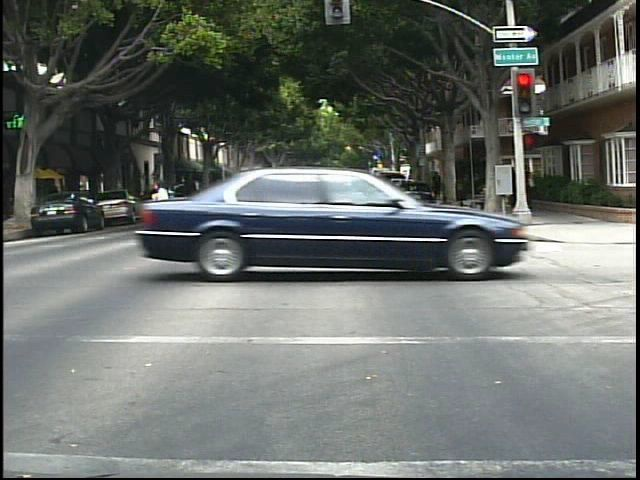person: (145, 172, 185, 242), (378, 172, 396, 206), (432, 168, 445, 199)
